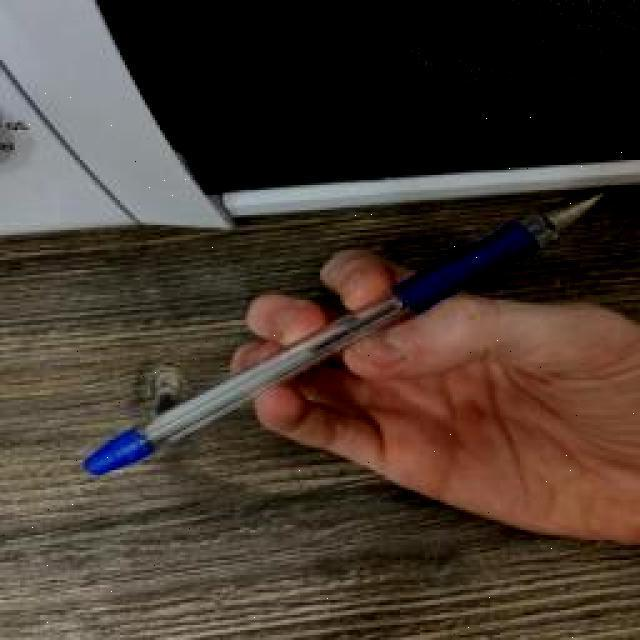pen: (82, 190, 607, 478)
